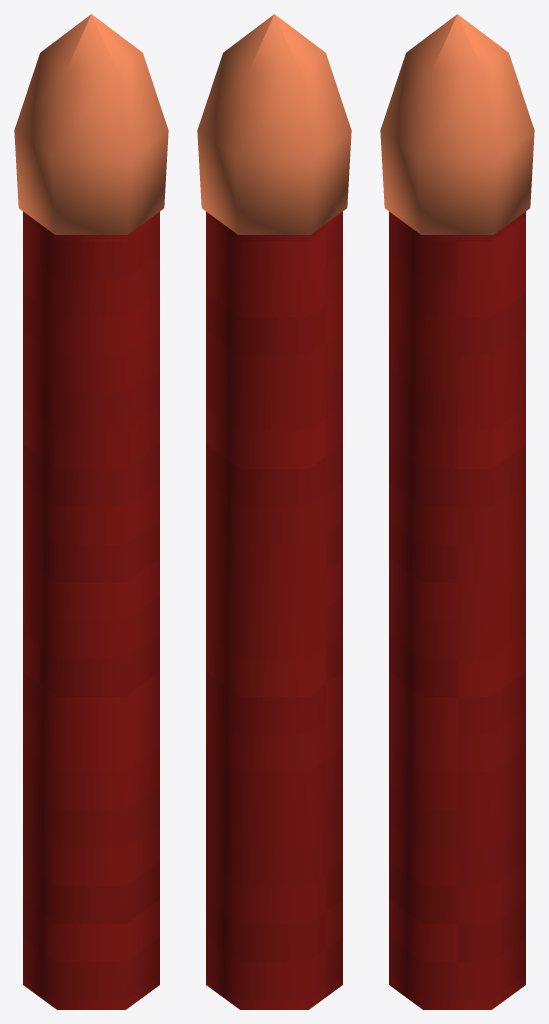
File: flare_l1.gltf
3 views of the same model, side by side, from view 1: azimuth 30°, elevation 25°; view 2: azimuth 150°, elevation 25°; view 3: azimuth 270°, elevation 25° (orthographic).
Visible parts, largest first — view 1: flare_l1; view 2: flare_l1; view 3: flare_l1.
Part boxes in pixels (x1,y1,x2,y2): flare_l1: (14,14,168,1009); flare_l1: (197,14,351,1009); flare_l1: (380,14,534,1009).
Size of the model in its own units: 0.0312 by 0.25 by 0.036.
2 materials, 2 textured.
